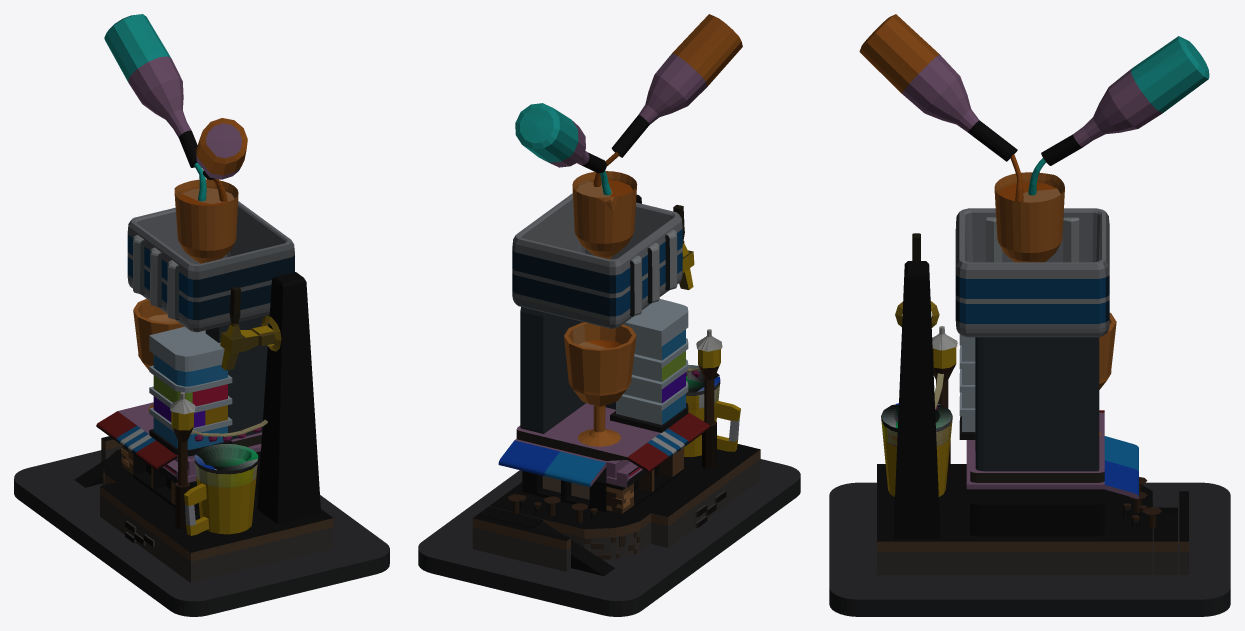
3 views of the same model, side by side, from view 1: azimuth 30°, elevation 25°; view 2: azimuth 150°, elevation 25°; view 3: azimuth 270°, elevation 25° (orthographic). The views are drawn at different scales.
Parts seen in each view (by area): view 1: Plane.007; view 2: Plane.007; view 3: Plane.007.
Part boxes in pixels (bbox=[...]): Plane.007: bbox=[14, 14, 389, 616]; Plane.007: bbox=[418, 14, 800, 616]; Plane.007: bbox=[829, 14, 1230, 616].
Bounding box in the file's own units: 2.07 × 4.28 × 3.
Materials: 1 (1 with a texture image).
